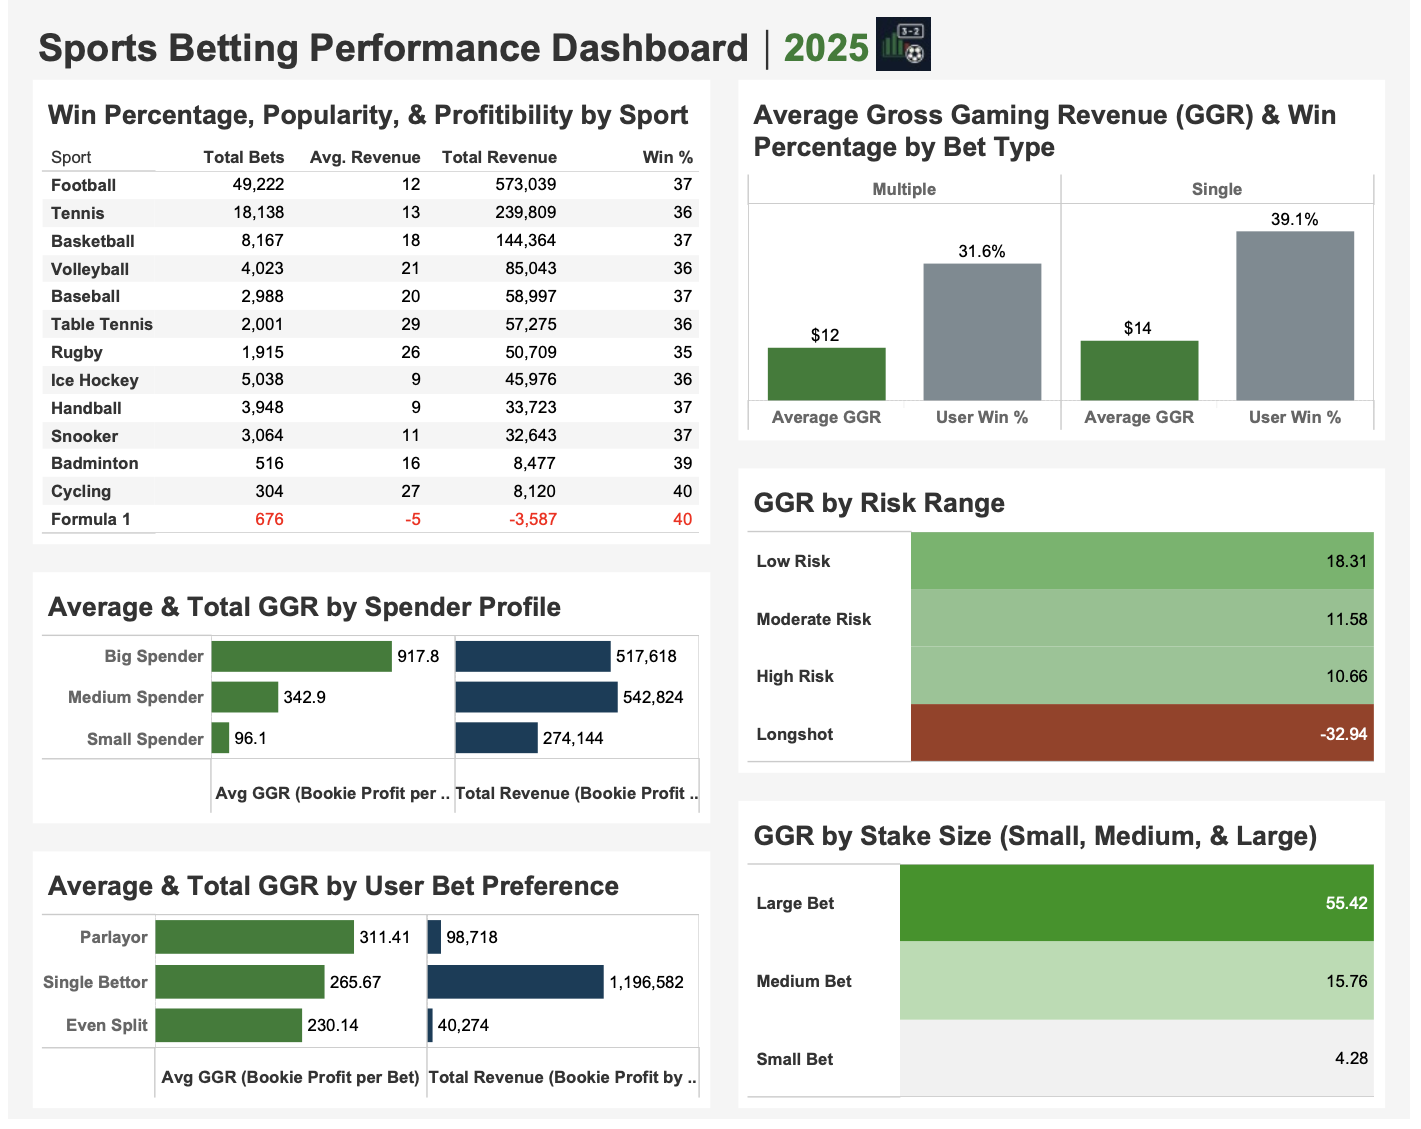

The page's visual inventory and layout, read from the dashboard file:
{"tool":"tableau","page":{"name":"Dashboard","canvas":[1000,800],"ordinal":0},"visuals":[{"type":"text","box":[8,8,984,53]},{"type":"worksheet","title":"Sport Profitibility","mark":"Automatic","rows":["sport"],"box":[8,61,503,340.1]},{"type":"worksheet","title":"Win % and GGR by Bet Type","mark":"Automatic","cols":["bet_type"],"box":[511,61,481,266.7]},{"type":"worksheet","title":"GGR by Odds Range","mark":"Square","rows":["risk_categories"],"box":[511,327.7,481,222.9]},{"type":"worksheet","title":"GGR by Spender Profile","mark":"Automatic","rows":["spender_category"],"cols":["average_revenue","total_revenue"],"box":[8,401.1,503,198.9]},{"type":"worksheet","title":"GGR by Stake Bins","mark":"Square","rows":["stake_categories"],"box":[511,550.5,481,241.5]},{"type":"worksheet","title":"GGR by Bet Preference","mark":"Automatic","rows":["bettor_type"],"cols":["avg_revenue_per_bet_type","total_revenue_per_bet_type"],"box":[8,600,503,192]}]}

Visuals, with their boxes in screenshot pixels (x1, y1, x2, y2), scaled from the page's 1000x800 canvas onto the 1421x1129 screenshot:
text: 11/11/1410/86
"Sport Profitibility" worksheet: 11/86/726/566
"Win % and GGR by Bet Type" worksheet: 726/86/1410/462
"GGR by Odds Range" worksheet (Square marks): 726/462/1410/777
"GGR by Spender Profile" worksheet: 11/566/726/847
"GGR by Stake Bins" worksheet (Square marks): 726/777/1410/1118
"GGR by Bet Preference" worksheet: 11/847/726/1118
